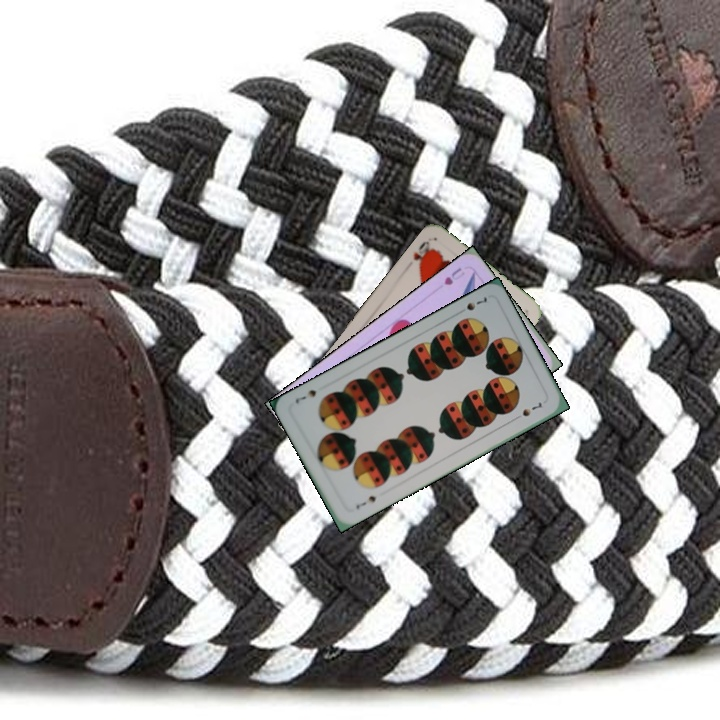HO: (409, 237, 436, 270)
HU: (440, 263, 467, 288)
S7: (453, 293, 490, 317), (352, 492, 379, 512)
